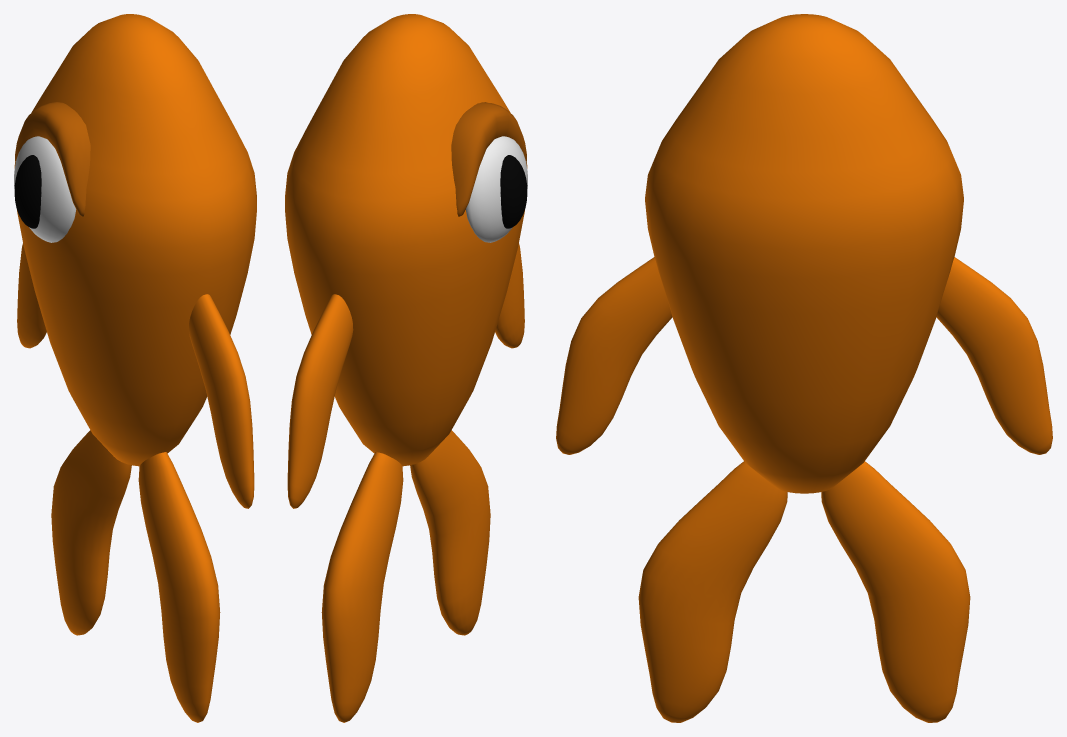
The model's file is fishman.glb.
3 views of the same model, side by side, from view 1: azimuth 30°, elevation 25°; view 2: azimuth 150°, elevation 25°; view 3: azimuth 270°, elevation 25° (orthographic). The views are drawn at different scales.
Parts seen in each view (by area): view 1: body, legs, arms, eyelid, eye, innereye; view 2: body, legs, arms, eyelid, eye, innereye; view 3: body, legs, arms.
Boxes of the visible parts, x1,y1,x2,y2 form: body: (14,14,256,466); legs: (51,430,220,722); arms: (17,243,254,508); eyelid: (15,102,90,216); eye: (14,136,76,242); innereye: (14,155,41,228); body: (285,14,527,466); legs: (321,430,490,722); arms: (287,243,524,508); eyelid: (451,102,526,216); eye: (465,136,527,242); innereye: (500,155,527,228); body: (645,14,963,493); legs: (638,461,970,722); arms: (556,257,1052,454).
Size of the model in its own units: 0.5356 by 1.57 by 1.01.
